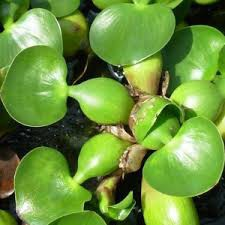water_hyacinth: (0, 0, 225, 225)
